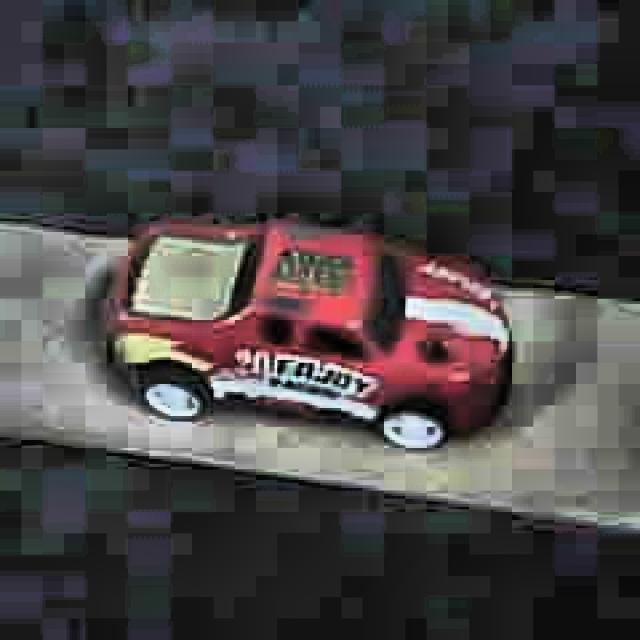car: (102, 213, 516, 458)
